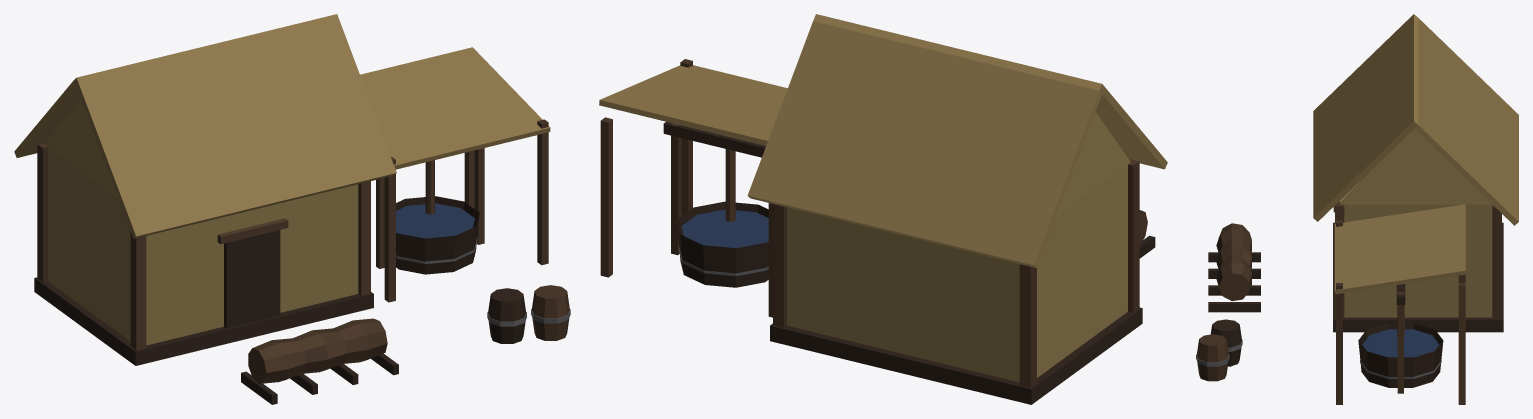
The model's file is walk_tidebound_winery.glb.
3 views of the same model, side by side, from view 1: azimuth 30°, elevation 25°; view 2: azimuth 150°, elevation 25°; view 3: azimuth 270°, elevation 25° (orthographic). The views are drawn at different scales.
Visible parts, largest first — view 1: walk_tidebound_winery, walk_tidebound_winery_roof; view 2: walk_tidebound_winery, walk_tidebound_winery_roof; view 3: walk_tidebound_winery_roof, walk_tidebound_winery.
Boxes of the visible parts, x1,y1,x2,y2 form: walk_tidebound_winery: (34, 99, 570, 404); walk_tidebound_winery_roof: (14, 14, 550, 238); walk_tidebound_winery: (600, 59, 1155, 404); walk_tidebound_winery_roof: (599, 14, 1167, 268); walk_tidebound_winery_roof: (1313, 14, 1518, 294); walk_tidebound_winery: (1196, 129, 1503, 404).
Size of what is drawn, in the model's own units: 9.5 by 5.45 by 7.38.
Materials: 2 (2 with a texture image).
